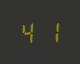four: (19, 20, 39, 44)
one: (40, 19, 60, 43)
